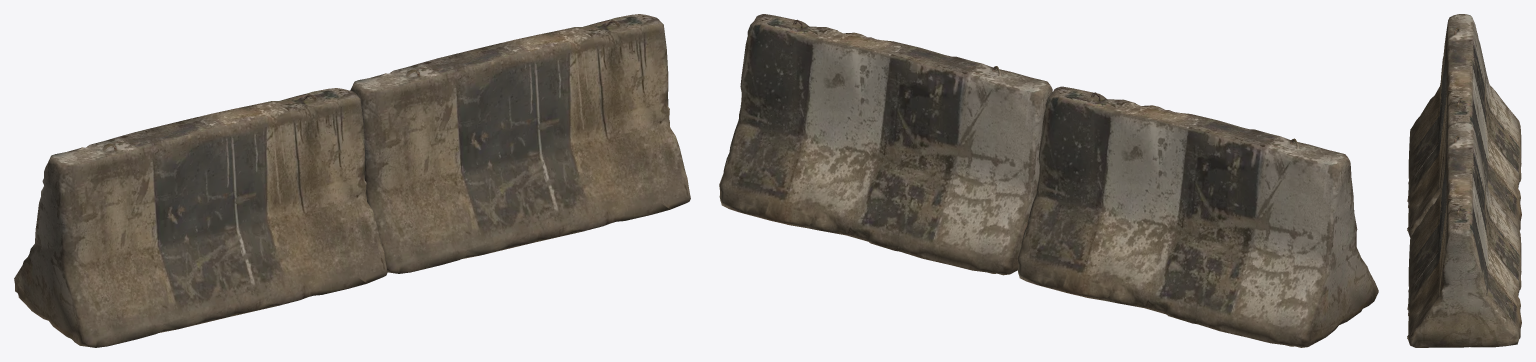
File: barrier.glb
The picture shows the model from 3 angles, left to right: view 1: azimuth 30°, elevation 25°; view 2: azimuth 150°, elevation 25°; view 3: azimuth 270°, elevation 25°; orthographic projection. The views are drawn at different scales.
Bounding box in the file's own units: 4 × 1.1 × 0.9.
Materials: 1 (1 with a texture image).
